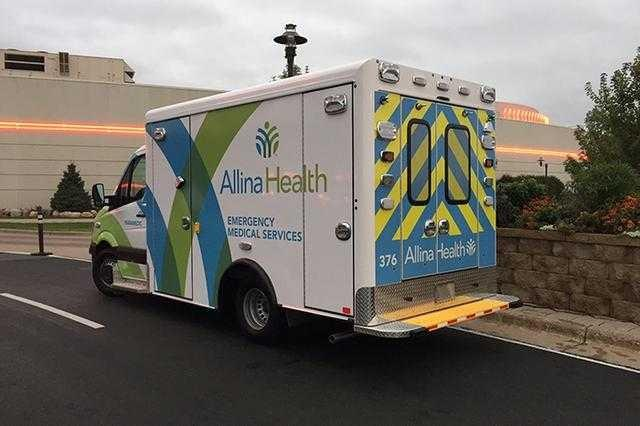car: (88, 49, 520, 344)
